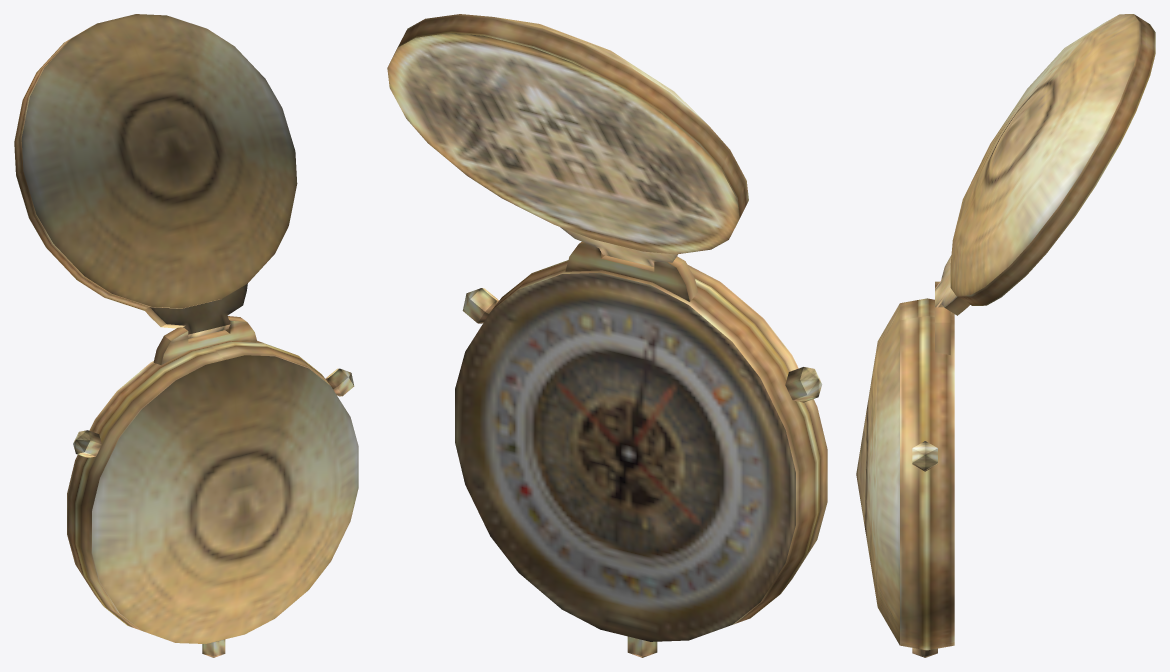
Rendered from list.ico.obj.
The picture shows the model from 3 angles, left to right: view 1: azimuth 30°, elevation 25°; view 2: azimuth 150°, elevation 25°; view 3: azimuth 270°, elevation 25°; orthographic projection. The views are drawn at different scales.
Size of the model in its own units: 2.31 by 4.55 by 1.98.
1 material, 1 textured.
